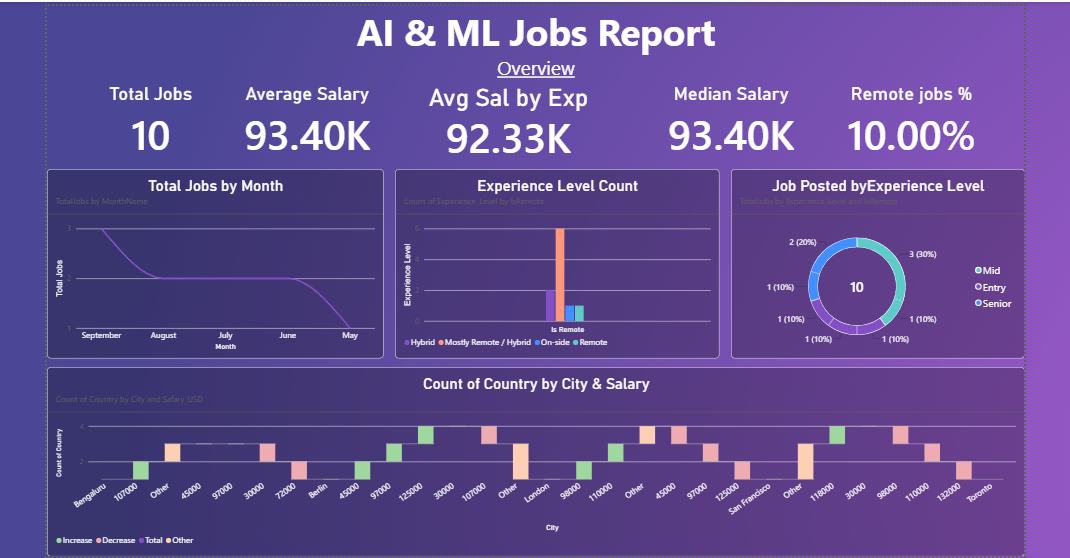

This screenshot's page, from the dashboard's own definition file:
{"tool":"powerbi","page":{"name":"Overview","canvas":[1920,1080],"ordinal":0},"visuals":[{"type":"textbox","box":[0,0,1920.2,151.2],"z":0},{"type":"cardVisual","title":"Total Jobs","fields":{"Data":["Fact_Jobs.TotalJobs"]},"box":[75.6,151.2,254.9,138.2],"z":1000},{"type":"cardVisual","title":"Average Salary","fields":{"Data":["Fact_Jobs.AvgSalary"]},"box":[339.1,151.2,343.4,138.2],"z":2000},{"type":"cardVisual","title":"Median Salary","fields":{"Data":["Fact_Jobs.AvgSalary"]},"box":[1185.8,151.2,315.4,138.2],"z":3000},{"type":"cardVisual","title":"Remote jobs %","fields":{"Data":["Fact_Jobs.RemoteJob%"]},"box":[1535.8,151.2,324,138.2],"z":4000},{"type":"cardVisual","title":"Avg Sal by Exp","fields":{"Data":["Fact_Jobs.AvgSalaryByExperience"]},"box":[710.6,151.2,391,138.2],"z":5000},{"type":"lineChart","title":"Total Jobs by Month","fields":{"Category":["Dim_Date.MonthName"],"Y":["Fact_Jobs.TotalJobs"]},"box":[0,319.7,661,371.5],"z":6000},{"type":"clusteredColumnChart","title":"Experience Level Count","fields":{"Series":["Fact_Jobs.IsRemote"],"Y":["CountNonNull(Fact_Jobs.Experience_Level)"]},"box":[682.6,319.7,637.2,371.5],"z":7000},{"type":"donutChart","title":"Job Posted  byExperience Level  ","fields":{"Series":["Fact_Jobs.IsRemote"],"Category":["Fact_Jobs.Experience_Level"],"Y":["Fact_Jobs.TotalJobs"]},"box":[1343.5,319.7,576.7,371.5],"z":8000},{"type":"waterfallChart","title":"Count of Country by City & Salary","fields":{"Category":["Dim_Locations.City"],"Breakdown":["Fact_Jobs.Salary_USD"],"Y":["CountNonNull(Dim_Locations.Country)"]},"box":[0,708.5,1920.2,371.5],"z":9000}]}

Visuals, with their boxes on the page's 1920x1080 design canvas (x1, y1, x2, y2). These are canvas units, not pixel positions in the 1070x558 screenshot, which may show the page scaled, cropped or inside an application window:
textbox: (left=0, top=0, right=1920, bottom=151)
"Total Jobs" cardVisual: (left=76, top=151, right=330, bottom=289)
"Average Salary" cardVisual: (left=339, top=151, right=682, bottom=289)
"Median Salary" cardVisual: (left=1186, top=151, right=1501, bottom=289)
"Remote jobs %" cardVisual: (left=1536, top=151, right=1860, bottom=289)
"Avg Sal by Exp" cardVisual: (left=711, top=151, right=1102, bottom=289)
"Total Jobs by Month" lineChart: (left=0, top=320, right=661, bottom=691)
"Experience Level Count" clusteredColumnChart: (left=683, top=320, right=1320, bottom=691)
"Job Posted  byExperience Level  " donutChart: (left=1344, top=320, right=1920, bottom=691)
"Count of Country by City & Salary" waterfallChart: (left=0, top=708, right=1920, bottom=1080)
